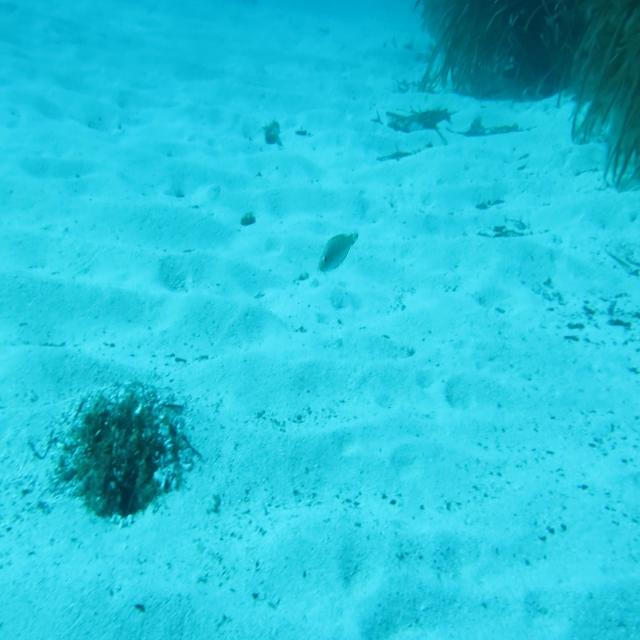AM: (315, 231, 362, 276)
nest: (48, 390, 195, 534)
vegetation: (431, 0, 640, 93), (317, 267, 326, 276)
